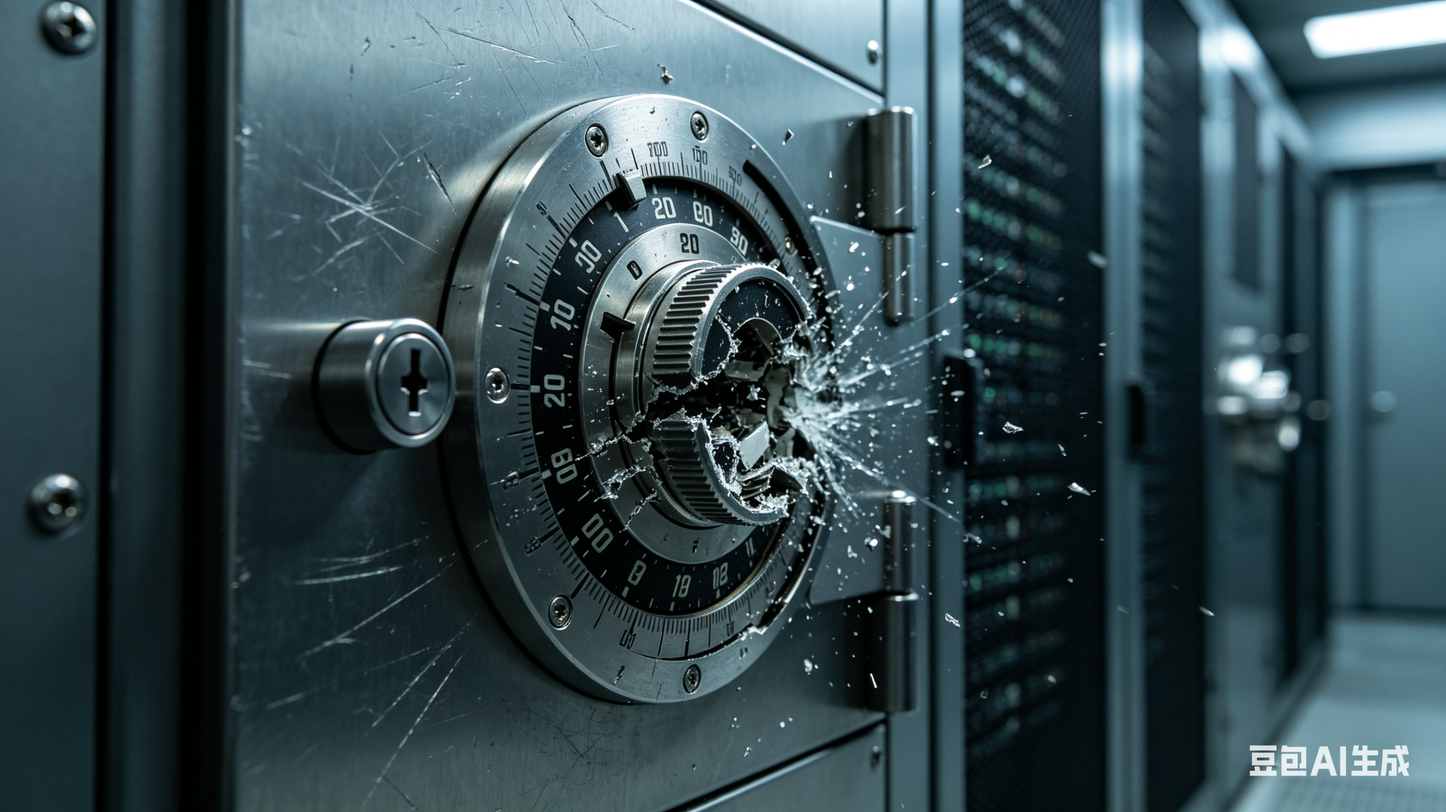BadLock: (609, 255, 848, 534)
